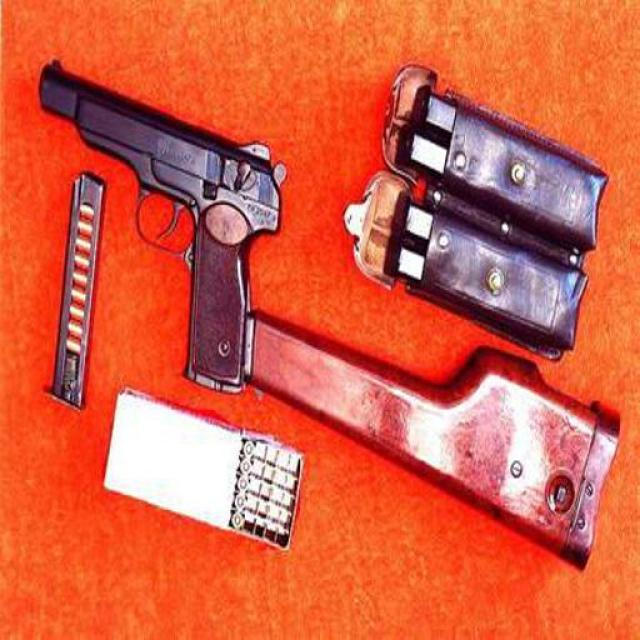pistol: (38, 53, 283, 394)
